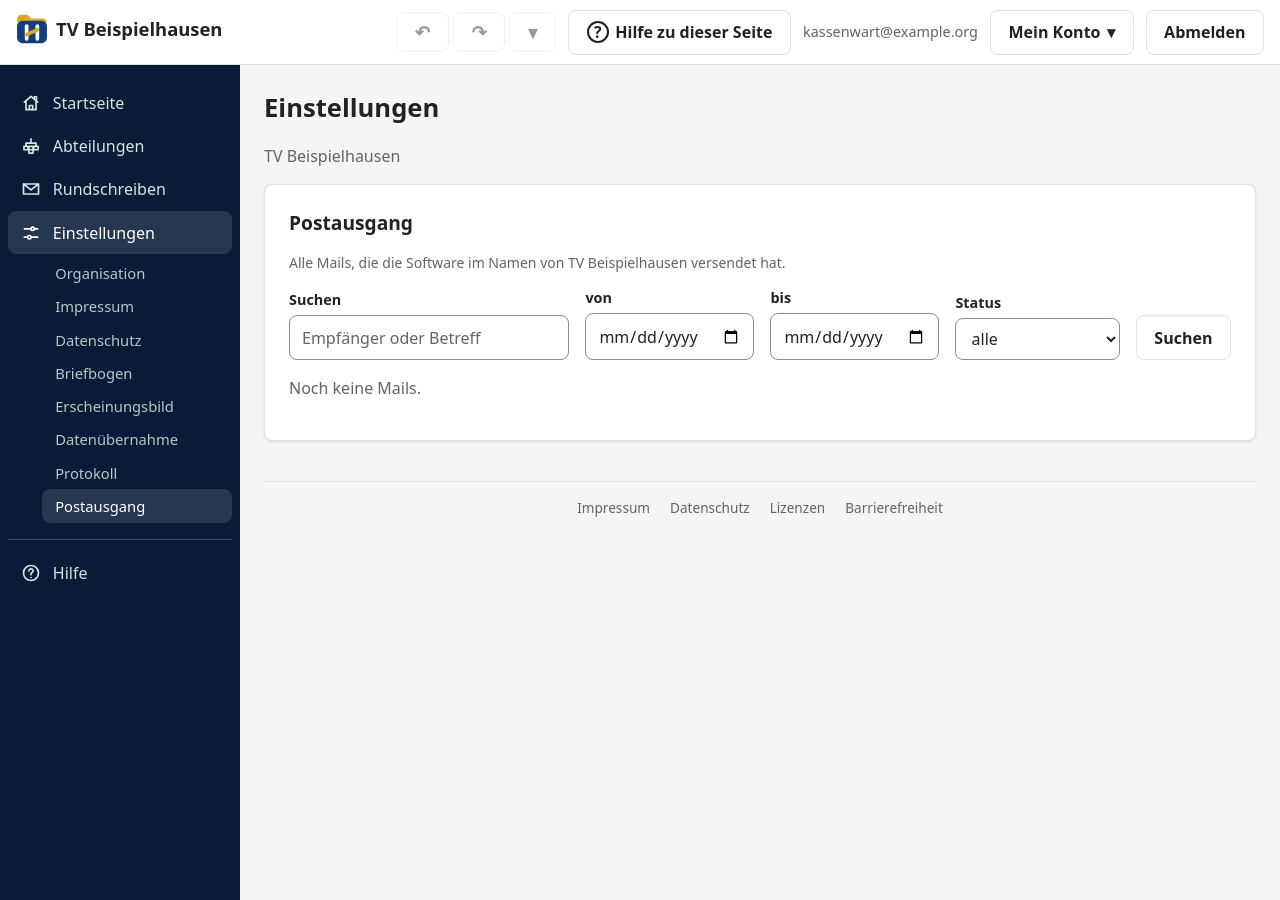
it: Postausgang › filtert nach Status
Expected: the text "Noch keine Mails." is shown, [289,377,421,399]
Select "fehlgeschlagen" in the dropdown labelled "Status": coordinates (1038, 339) [955,318,1120,360]
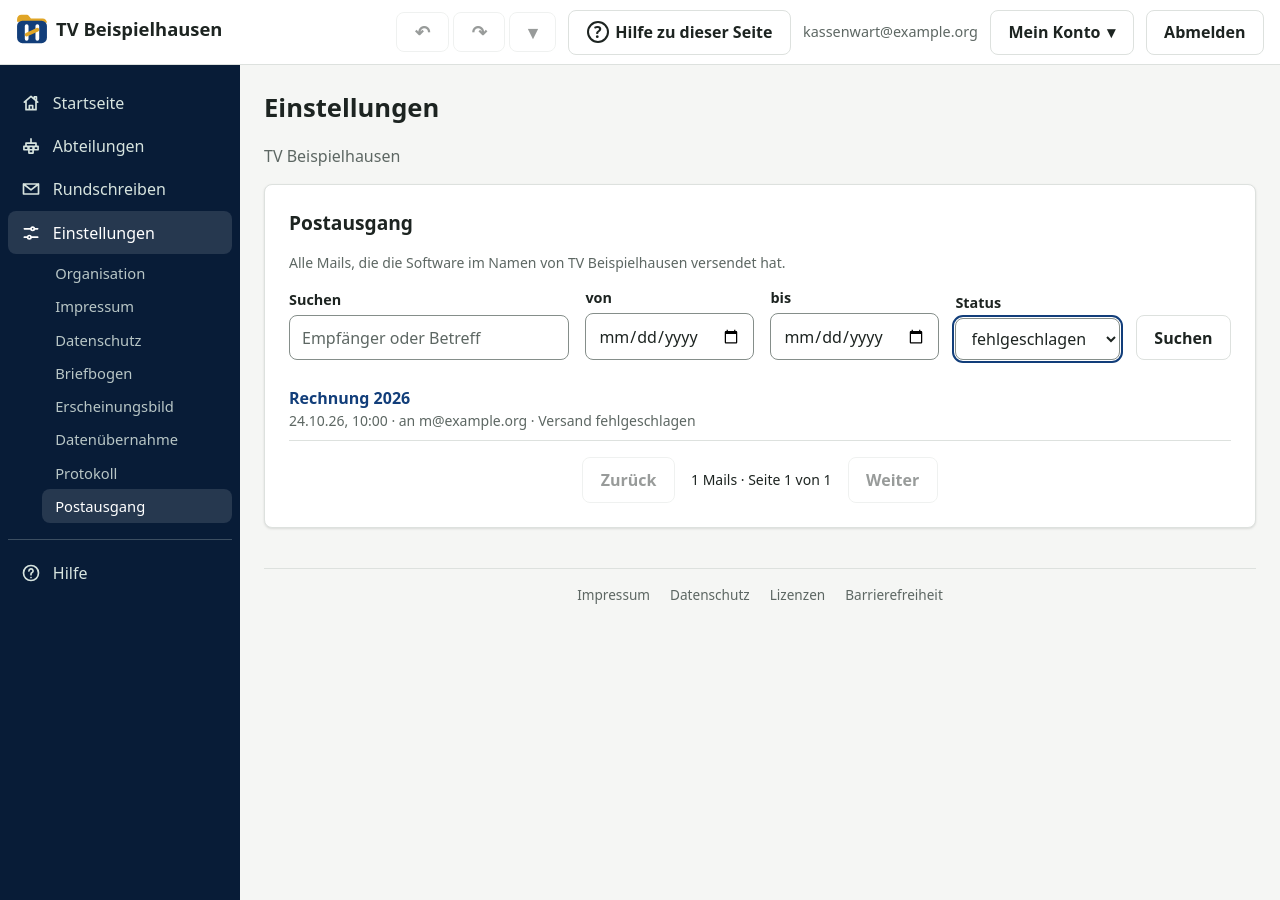
Result: the text "Rechnung 2026" is shown at [289,387,410,409]
